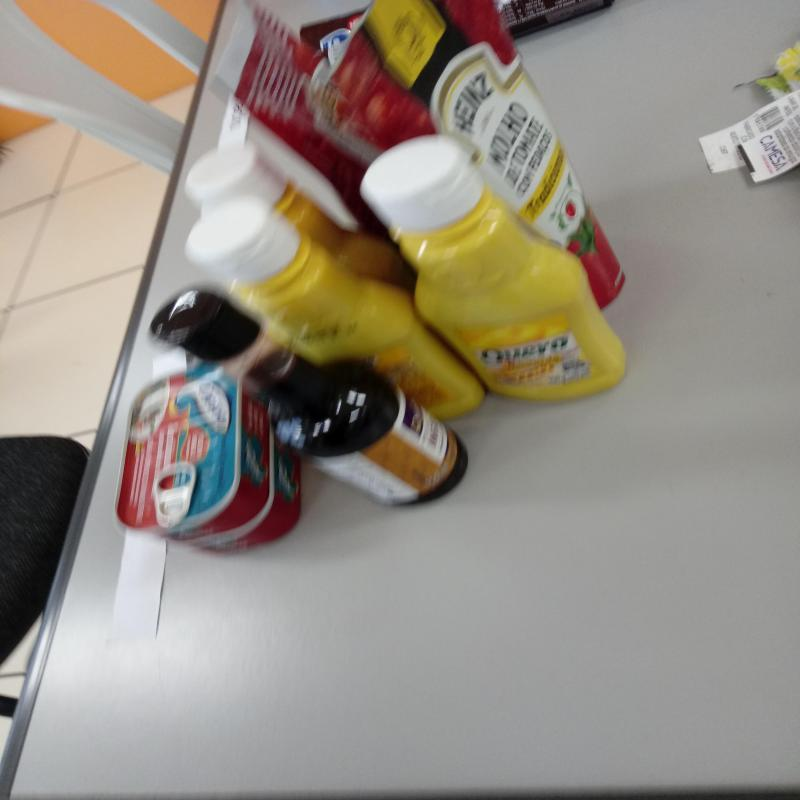EnglishSauce: (150, 294, 466, 502)
Mustard: (355, 133, 632, 407)
TomatoSauce: (310, 0, 628, 308)
TunaCan: (119, 364, 270, 541)
